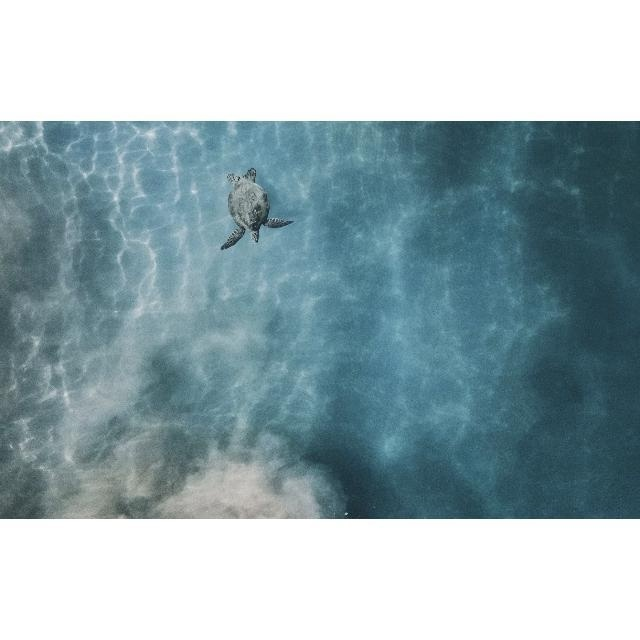turtle: (221, 167, 296, 249)
